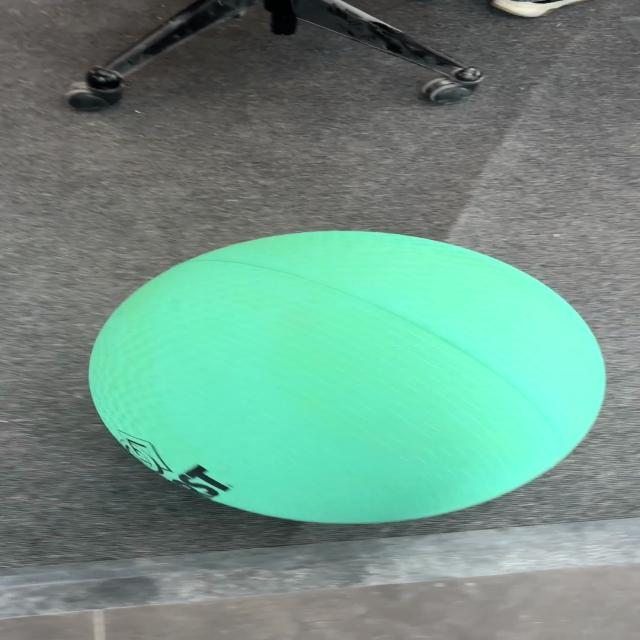Algae: (86, 229, 607, 525)
